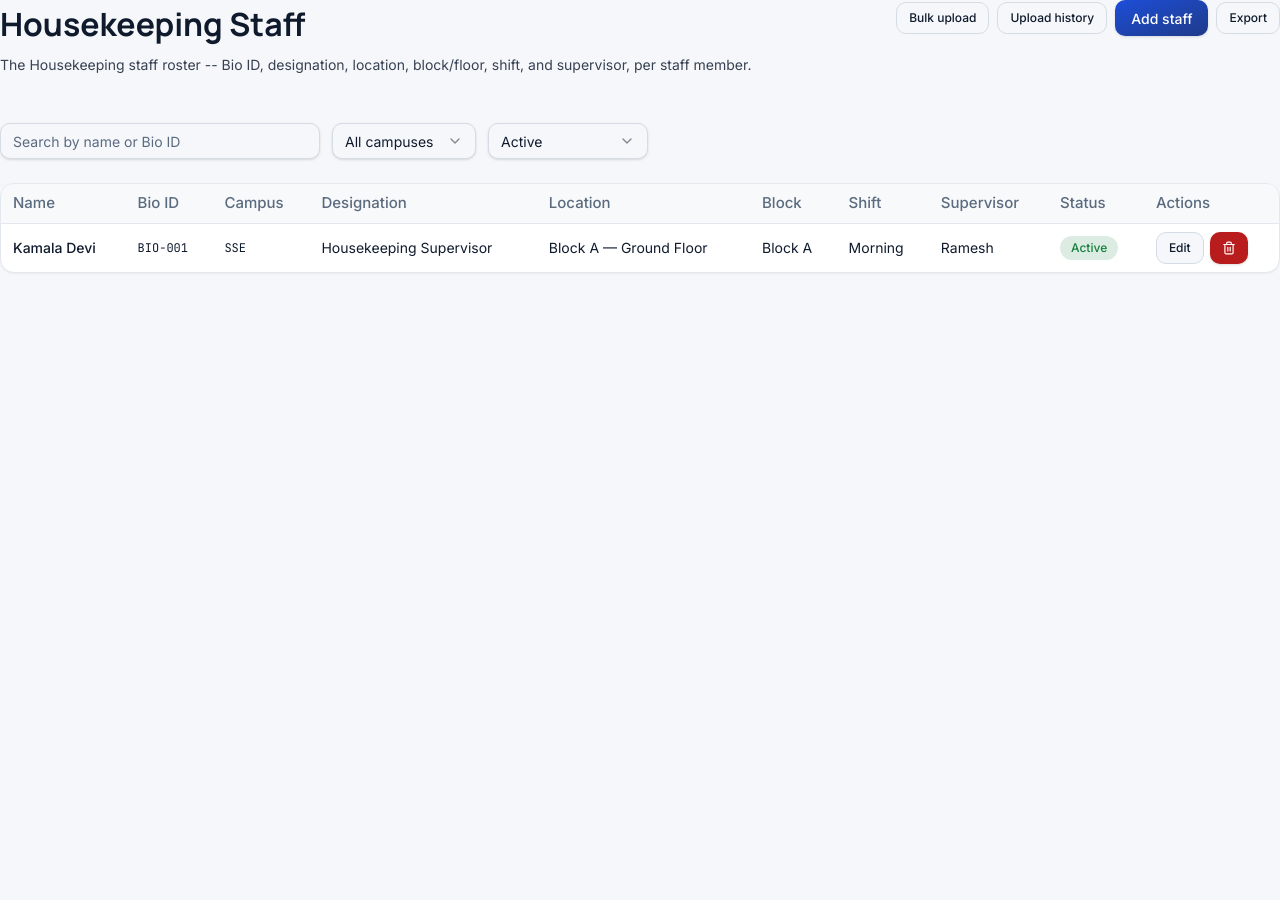
Scenario: HousekeepingStaffListPage › opens the drawer in edit mode with the row's data pre-filled
Click the button "Edit": (1180, 248) [1156,232,1204,264]
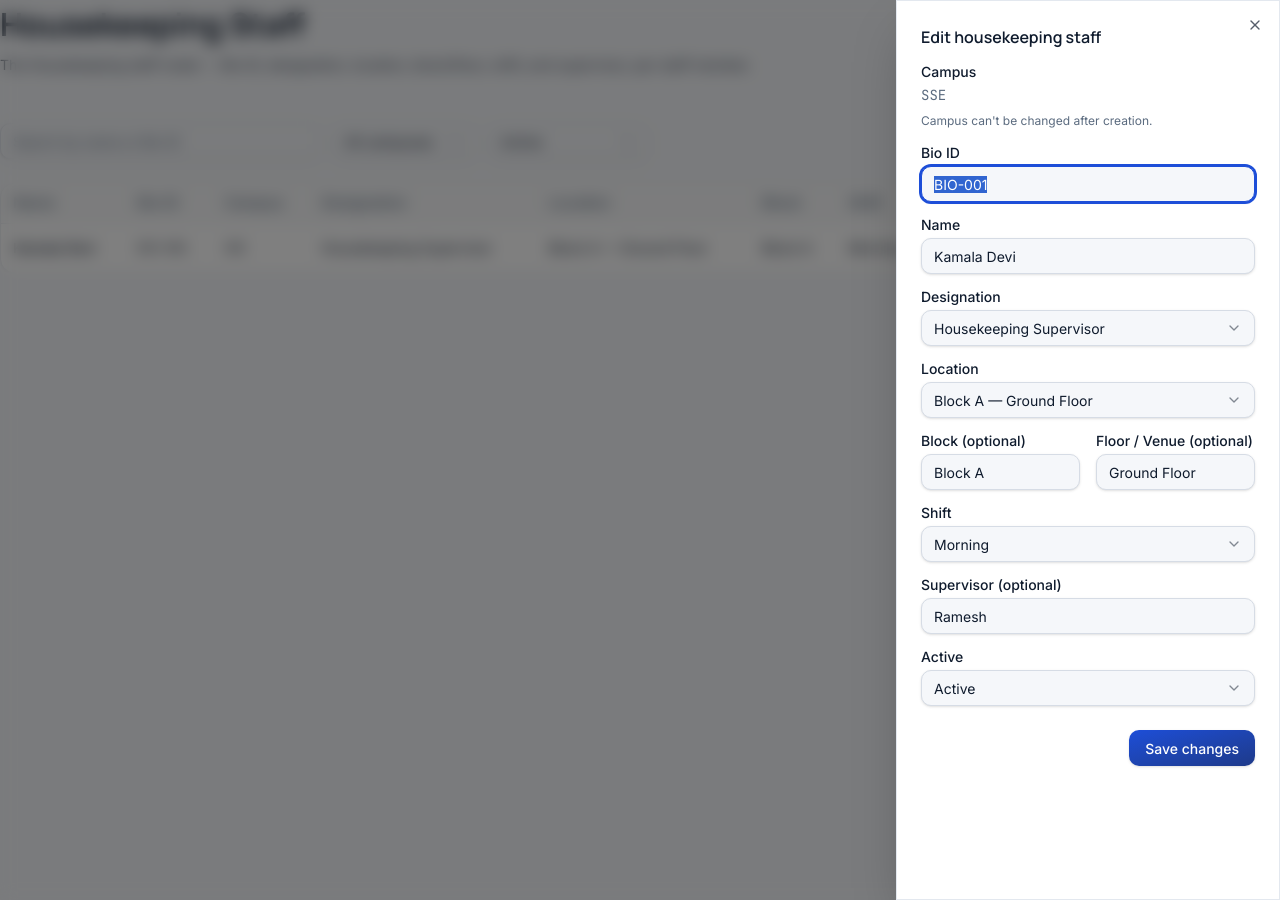
Now the heading "Edit housekeeping staff" is shown, box [921,26,1101,48]
Now the field showing "BIO-001" is shown, box [921,166,1255,202]
